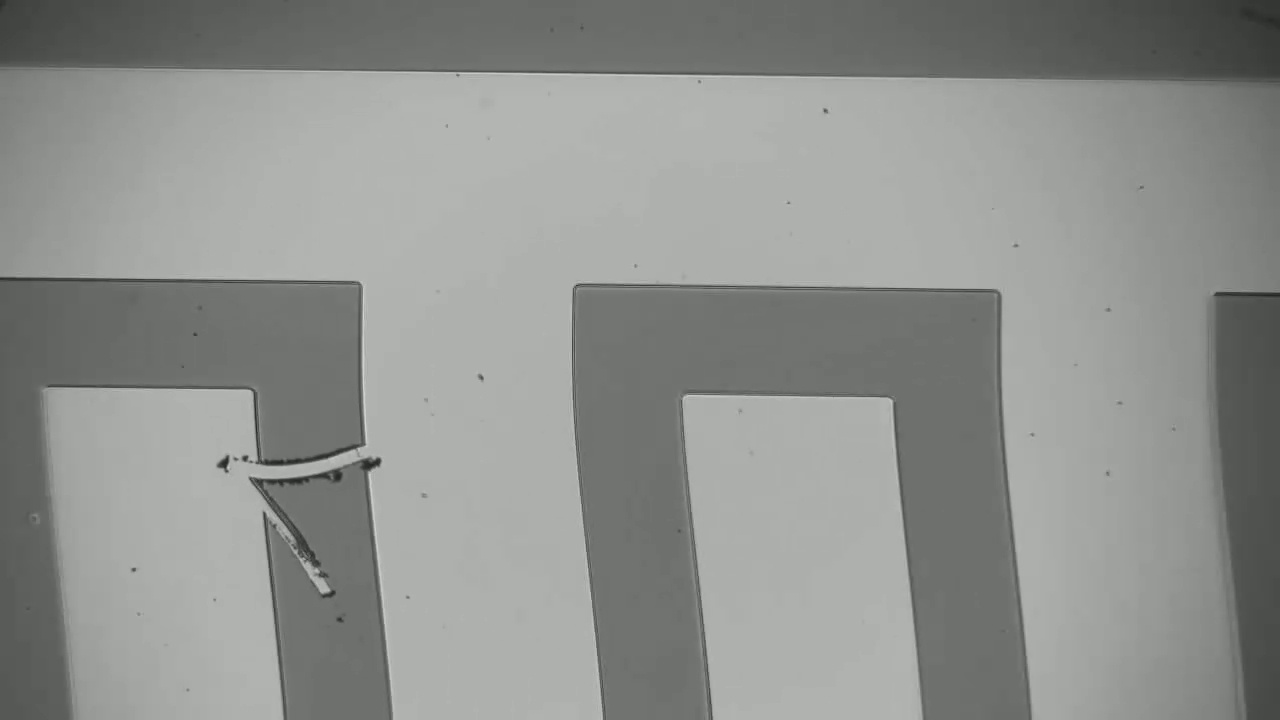Short_circuit: (229, 421, 400, 506)
